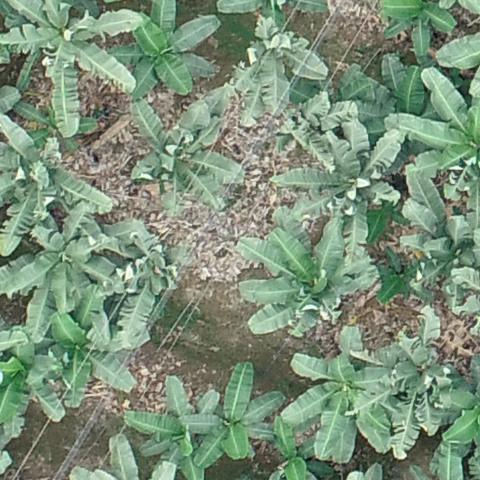Banana-plant: (1, 1, 135, 135), (0, 124, 114, 253), (130, 95, 245, 216), (290, 333, 391, 463), (0, 210, 113, 322), (246, 226, 358, 339), (277, 127, 398, 231), (360, 338, 460, 460), (393, 69, 480, 193), (110, 3, 215, 89), (196, 363, 281, 469), (238, 24, 325, 122), (44, 308, 132, 400), (132, 381, 217, 475), (0, 325, 66, 437), (382, 0, 461, 54)
